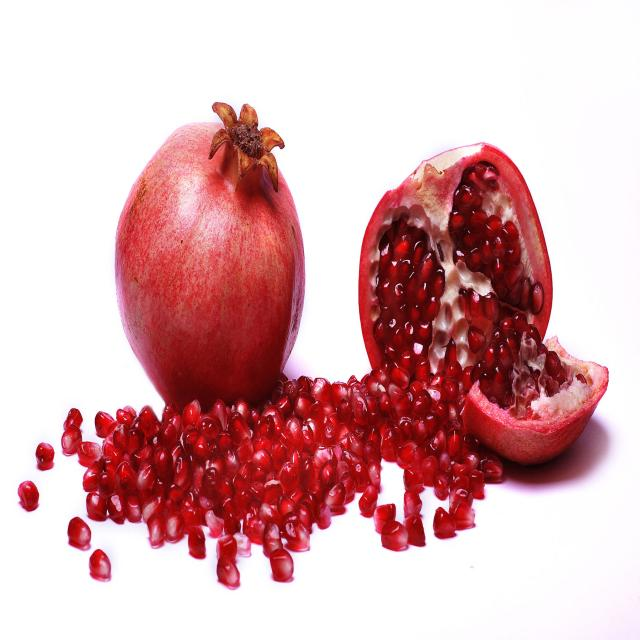Pomegranate: (62, 144, 609, 587), (209, 288, 211, 295)
